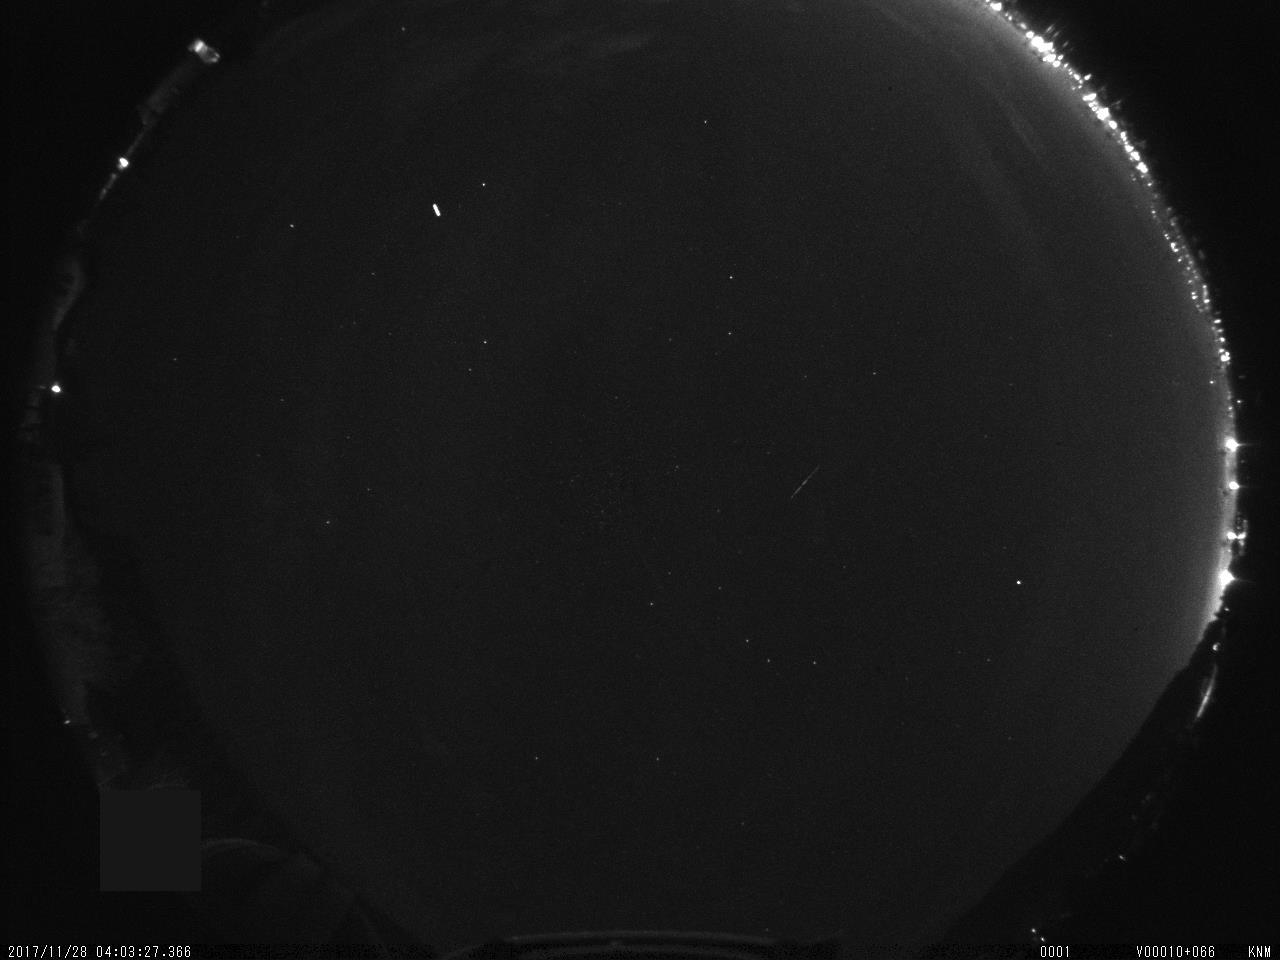meteor: (765, 455, 866, 515)
